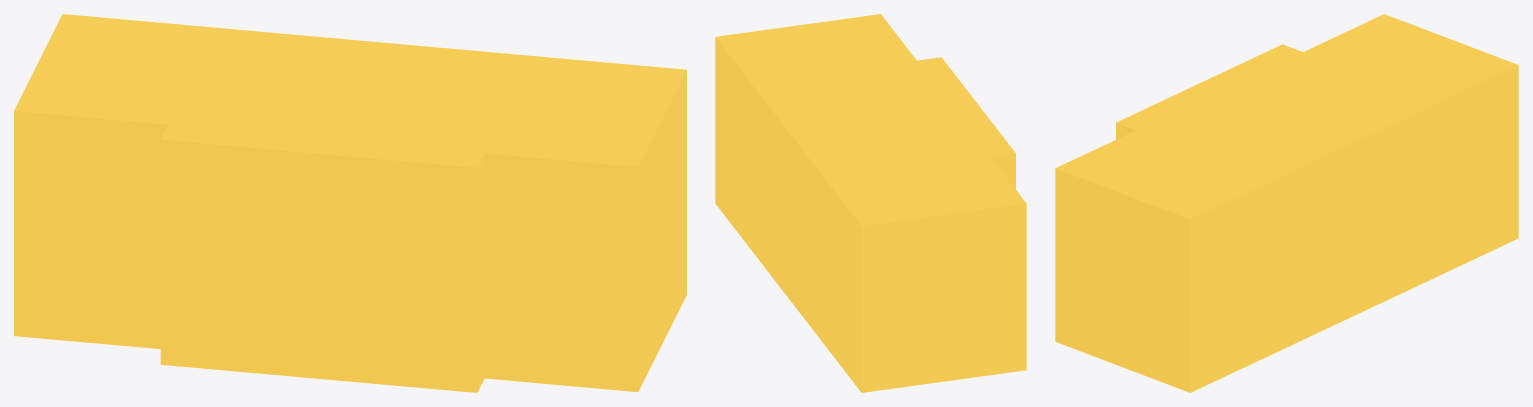
The model's file is HANGOVER.fbx.
The picture shows the model from 3 angles, left to right: view 1: azimuth 30°, elevation 25°; view 2: azimuth 150°, elevation 25°; view 3: azimuth 270°, elevation 25°; orthographic projection. The views are drawn at different scales.
Parts seen in each view (by area): view 1: ROUTE; view 2: ROUTE; view 3: ROUTE.
Part boxes in pixels (x1=…): ROUTE: x1=14, y1=14, x2=686, y2=392; ROUTE: x1=715, y1=14, x2=1026, y2=392; ROUTE: x1=1055, y1=14, x2=1518, y2=392.
Bounding box in the file's own units: 23.32 × 22.21 × 9.17.
